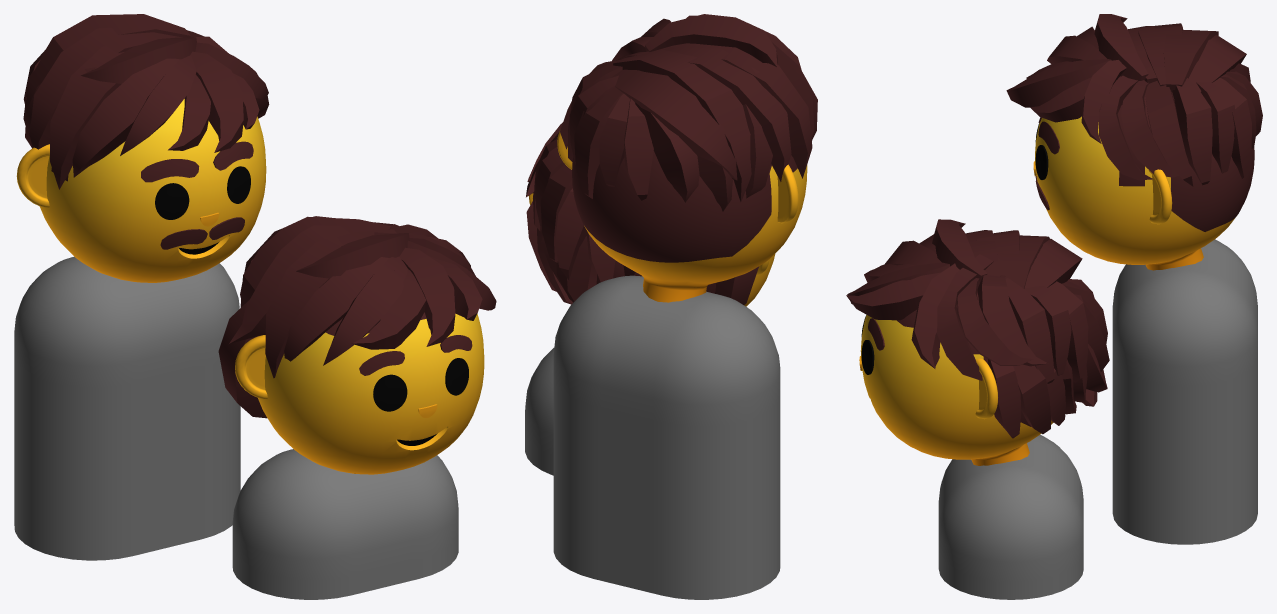
The model's file is family_man_boy.glb.
3 renders of one model, left to right at view 1: azimuth 30°, elevation 25°; view 2: azimuth 150°, elevation 25°; view 3: azimuth 270°, elevation 25°, orthographic. The views are drawn at different scales.
Visible parts, largest first — view 1: Sphere.328, Cube.5296, Sphere.327, Cube.5328, Roundcube.397, Roundcube.398, Circle.1658, Circle.1661, Circle.1663, Cylinder.322, Cylinder.323, Circle.1664 (+1 smaller); view 2: Sphere.328, Cube.5328, Roundcube.398, Cube.5296, Sphere.327, Cylinder.323; view 3: Sphere.328, Cube.5296, Cube.5328, Sphere.327, Roundcube.398, Roundcube.397, Cylinder.322, Cylinder.323.
Part boxes in pixels (left/top/right/bottom): Sphere.328: left=14, top=256, right=240, bottom=560; Cube.5296: left=218, top=216, right=496, bottom=418; Sphere.327: left=232, top=449, right=458, bottom=599; Cube.5328: left=23, top=14, right=269, bottom=189; Roundcube.397: left=258, top=312, right=484, bottom=474; Roundcube.398: left=39, top=99, right=266, bottom=282; Circle.1658: left=373, top=358, right=468, bottom=411; Circle.1661: left=155, top=166, right=250, bottom=219; Circle.1663: left=141, top=141, right=253, bottom=182; Cylinder.322: left=235, top=335, right=267, bottom=399; Cylinder.323: left=16, top=144, right=49, bottom=207; Circle.1664: left=160, top=217, right=244, bottom=249; Sphere.328: left=553, top=275, right=780, bottom=599; Cube.5328: left=560, top=14, right=817, bottom=211; Roundcube.398: left=572, top=151, right=807, bottom=302; Cube.5296: left=526, top=122, right=758, bottom=304; Sphere.327: left=525, top=348, right=554, bottom=475; Cylinder.323: left=557, top=130, right=798, bottom=223; Sphere.328: left=1112, top=239, right=1257, bottom=544; Cube.5296: left=846, top=219, right=1109, bottom=438; Cube.5328: left=1006, top=14, right=1262, bottom=186; Sphere.327: left=938, top=434, right=1083, bottom=599; Roundcube.398: left=1035, top=76, right=1254, bottom=270; Roundcube.397: left=860, top=292, right=1053, bottom=465; Cylinder.322: left=975, top=358, right=997, bottom=419; Cylinder.323: left=1148, top=169, right=1172, bottom=224.
Size of the model in its own units: 2.1 by 2.82 by 2.28.
1 material, 1 textured.
